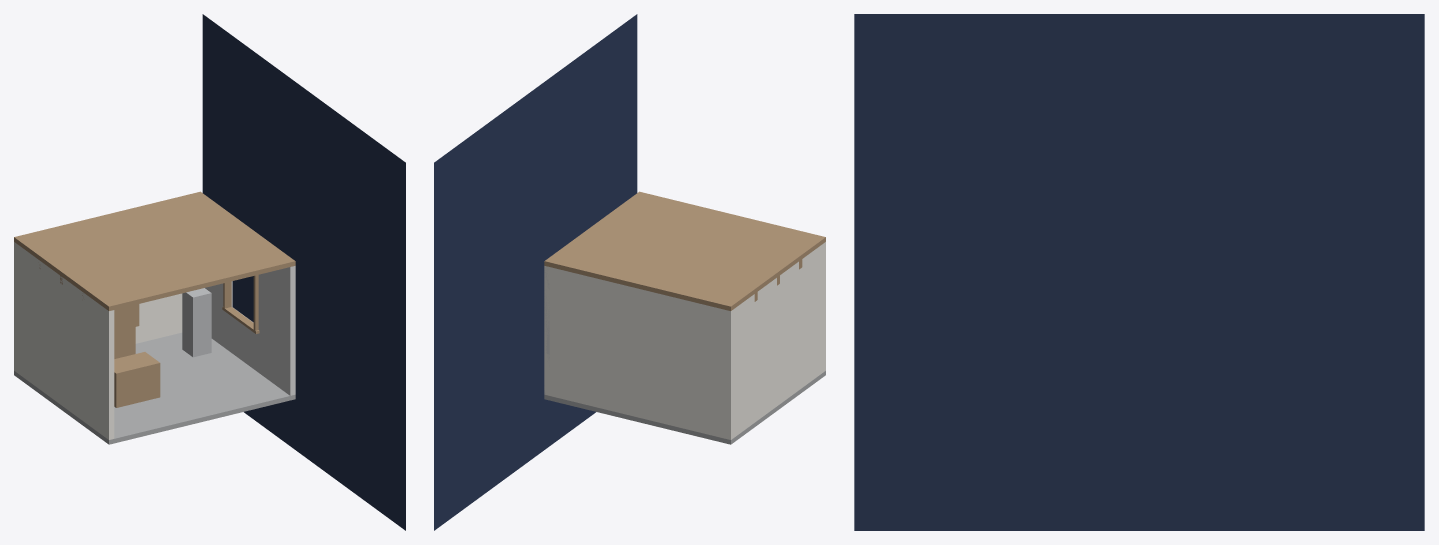
The model's file is room.glb.
3 views of the same model, side by side, from view 1: azimuth 30°, elevation 25°; view 2: azimuth 150°, elevation 25°; view 3: azimuth 270°, elevation 25° (orthographic). The views are drawn at different scales.
Parts seen in each view (by area): view 1: sky_plane, ceiling, wall_left, floor, wall_right, desk_stub, wall_back, fan_stub, window_frame, tv_stand_stub, tv_stub; view 2: sky_plane, wall_back, ceiling, wall_left, floor; view 3: sky_plane.
Boxes of the visible parts, x1,y1,x2,y2 form: sky_plane: [202, 14, 405, 530]; ceiling: [14, 191, 295, 310]; wall_left: [14, 242, 114, 439]; floor: [14, 332, 295, 444]; wall_right: [205, 266, 295, 395]; desk_stub: [114, 352, 160, 407]; wall_back: [14, 261, 182, 372]; fan_stub: [182, 288, 211, 357]; window_frame: [222, 275, 259, 333]; tv_stand_stub: [114, 327, 135, 358]; tv_stub: [114, 304, 139, 331]; sky_plane: [434, 14, 637, 530]; wall_back: [544, 266, 733, 439]; ceiling: [544, 191, 825, 310]; wall_left: [725, 242, 825, 439]; floor: [544, 371, 825, 444]; sky_plane: [854, 14, 1424, 530].
Bounding box in the file's own units: 5.52 × 8 × 8.
